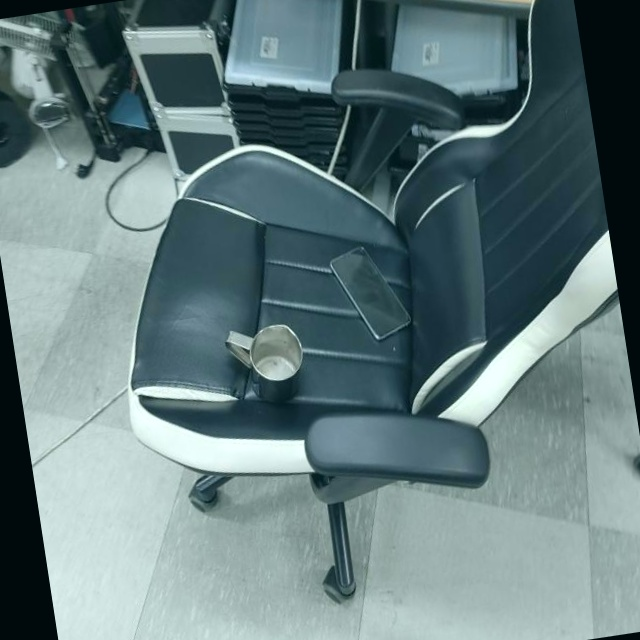cup: (222, 318, 309, 412)
phone: (326, 236, 415, 348)
